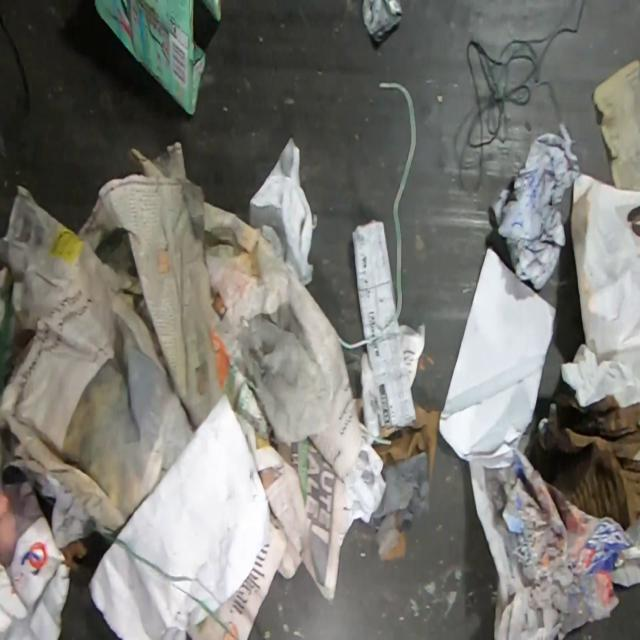cardboard: (524, 395, 640, 533), (96, 0, 221, 114)
